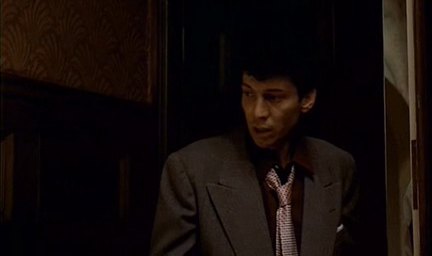face: (242, 77, 294, 147)
mcu: (1, 1, 432, 256)
person: (155, 44, 362, 256)
